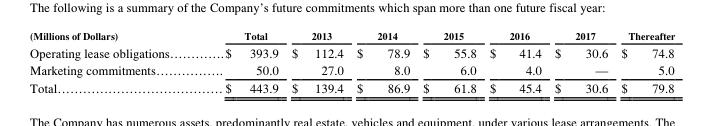table: (29, 29, 674, 95)
table column: (29, 29, 223, 95), (415, 29, 482, 95), (349, 29, 415, 95), (547, 29, 613, 95), (284, 29, 349, 95), (482, 29, 547, 95), (223, 29, 284, 95), (613, 29, 674, 95)
table column header: (29, 29, 674, 43)
table row: (29, 43, 674, 61), (29, 61, 674, 79), (29, 79, 674, 95), (29, 29, 674, 43)
